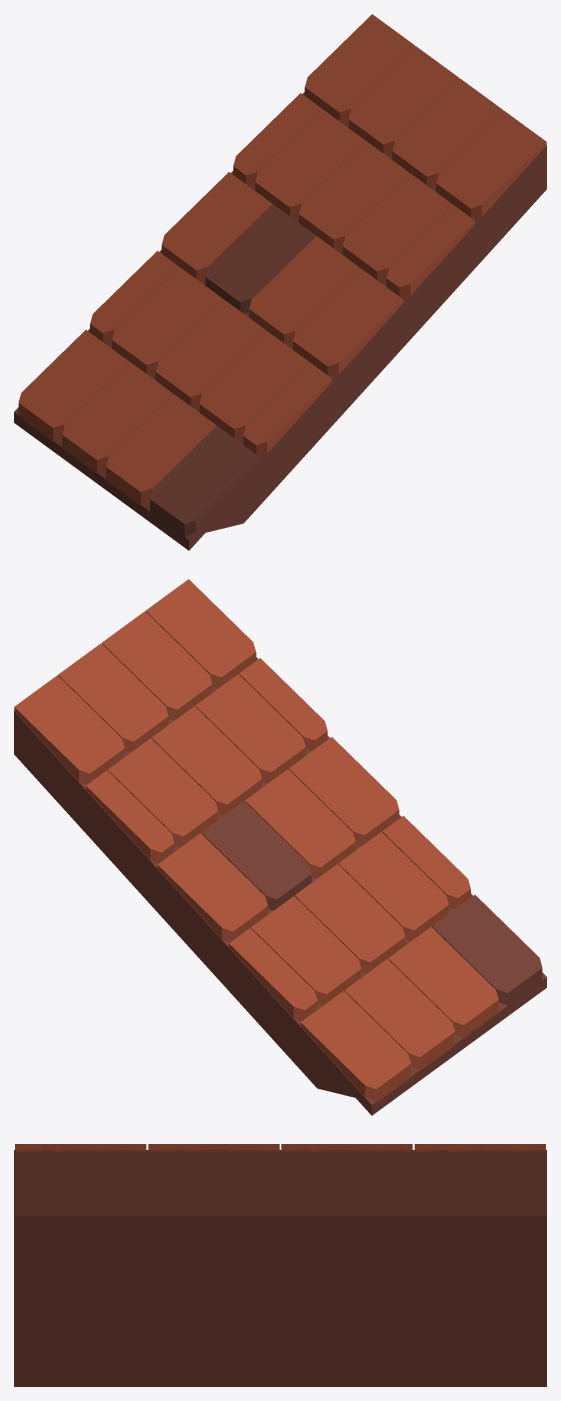
The model's file is pantile_slope.glb.
3 views of the same model, one above another, from view 1: azimuth 30°, elevation 25°; view 2: azimuth 150°, elevation 25°; view 3: azimuth 270°, elevation 25° (orthographic). The views are drawn at different scales.
Visible parts, largest first — view 1: Pantile slope; view 2: Pantile slope; view 3: Pantile slope.
Boxes of the visible parts, x1=… form: Pantile slope: x1=14, y1=14, x2=546, y2=550; Pantile slope: x1=14, y1=579, x2=546, y2=1115; Pantile slope: x1=14, y1=1144, x2=546, y2=1386.
Bounding box in the file's own units: 1.18 × 1.01 × 1.
